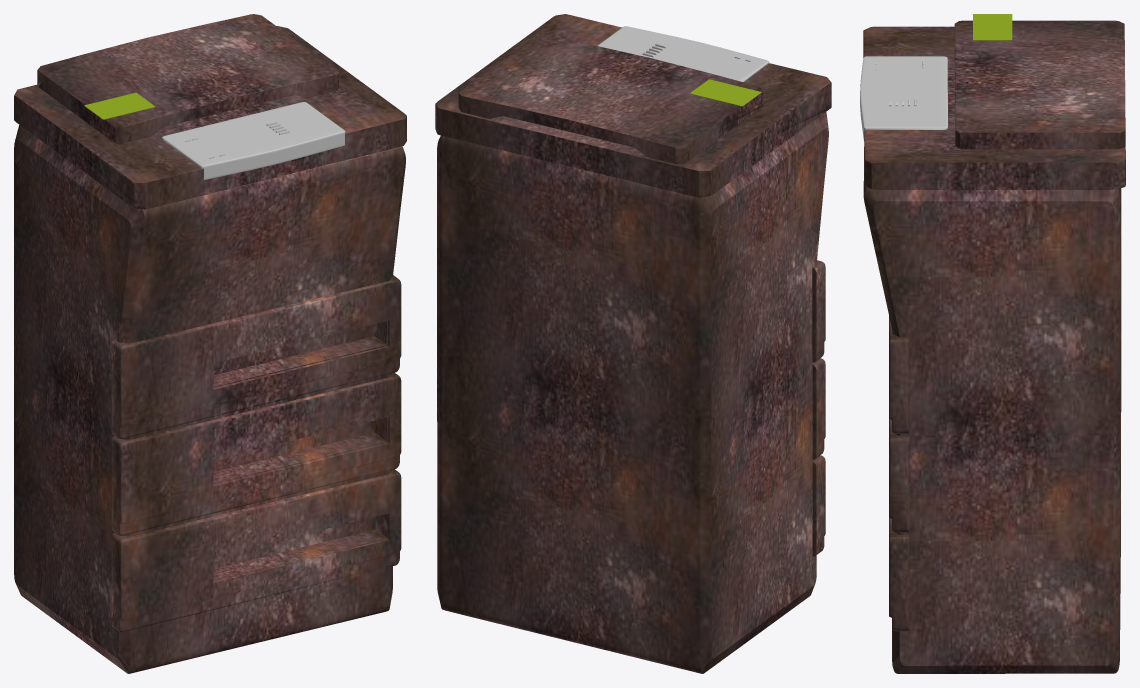
File: copyer.FBX
3 views of the same model, side by side, from view 1: azimuth 30°, elevation 25°; view 2: azimuth 150°, elevation 25°; view 3: azimuth 270°, elevation 25° (orthographic). The views are drawn at different scales.
Parts seen in each view (by area): view 1: COPYER; view 2: COPYER; view 3: COPYER.
Part boxes in pixels (box(x1,y1,x2,y2)): COPYER: box(14, 14, 406, 673); COPYER: box(435, 14, 831, 673); COPYER: box(860, 14, 1125, 673).
Size of the model in its own units: 22.39 by 40 by 17.96.
